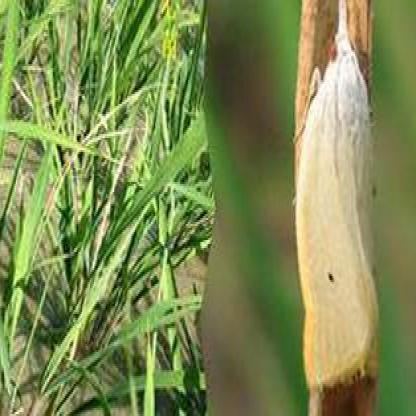stem-borer: (291, 0, 383, 394)
